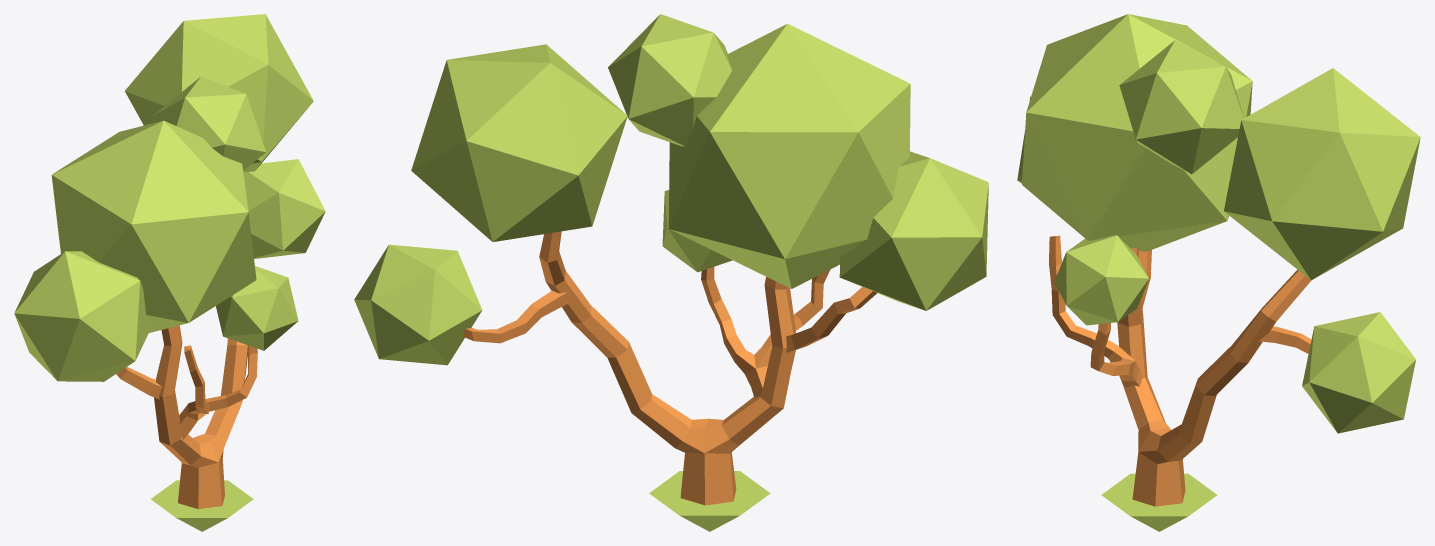
The model's file is low_poly_floating_tree.glb.
3 views of the same model, side by side, from view 1: azimuth 30°, elevation 25°; view 2: azimuth 150°, elevation 25°; view 3: azimuth 270°, elevation 25° (orthographic). The views are drawn at different scales.
Visible parts, largest first — view 1: Tree_lp_11.001, Cone; view 2: Tree_lp_11.001, Cone; view 3: Tree_lp_11.001, Cone.
Boxes of the visible parts, <box> form: Tree_lp_11.001: <box>14,14,325,509</box>; Cone: <box>151,480,253,531</box>; Tree_lp_11.001: <box>354,14,988,505</box>; Cone: <box>649,471,770,531</box>; Tree_lp_11.001: <box>1017,14,1420,506</box>; Cone: <box>1101,473,1217,531</box>.
Size of the model in its own units: 27.98 by 28.23 by 20.8.
